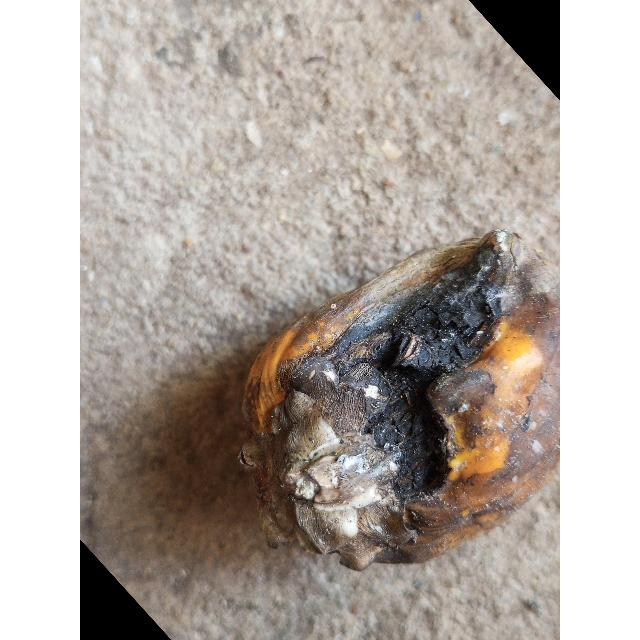damaged: (240, 230, 560, 570)
